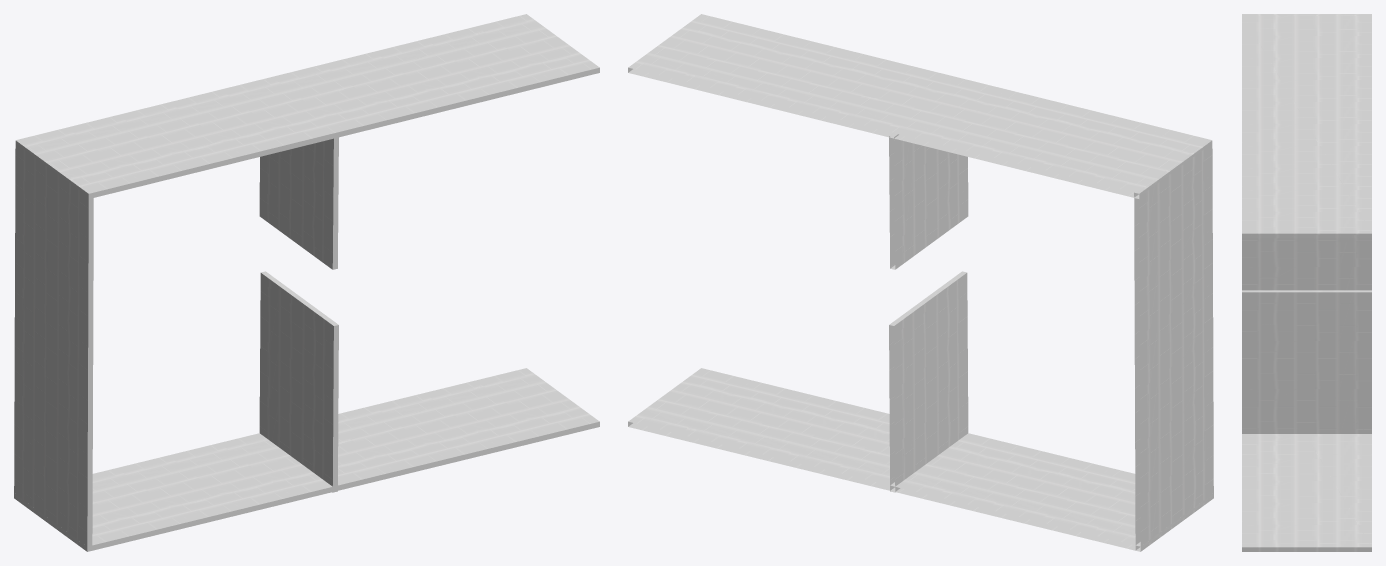
The model's file is wall_1.obj.
3 renders of one model, left to right at view 1: azimuth 30°, elevation 25°; view 2: azimuth 150°, elevation 25°; view 3: azimuth 270°, elevation 25°, orthographic. The views are drawn at different scales.
Visible parts, largest first — view 1: walls; view 2: walls; view 3: walls.
Part boxes in pixels (bbox=[...]): walls: bbox=[14, 14, 599, 551]; walls: bbox=[628, 14, 1213, 551]; walls: bbox=[1242, 14, 1371, 551].
Size of the model in its own units: 10.1 by 6.78 by 2.5.
